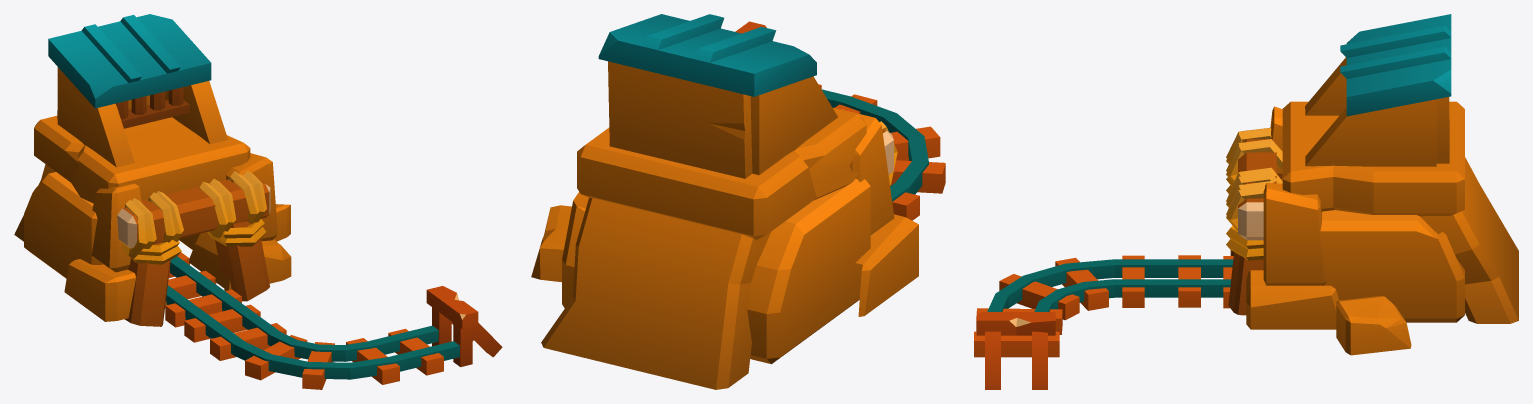
Rendered from Structure_Iron_Mine_lvl01.fbx.
3 renders of one model, left to right at view 1: azimuth 30°, elevation 25°; view 2: azimuth 150°, elevation 25°; view 3: azimuth 270°, elevation 25°, orthographic. The views are drawn at different scales.
Visible parts, largest first — view 1: Structure_Iron_Mine_lvl01; view 2: Structure_Iron_Mine_lvl01; view 3: Structure_Iron_Mine_lvl01.
Part boxes in pixels (x1=…): Structure_Iron_Mine_lvl01: x1=14, y1=14, x2=502, y2=389; Structure_Iron_Mine_lvl01: x1=531, y1=14, x2=945, y2=389; Structure_Iron_Mine_lvl01: x1=974, y1=14, x2=1518, y2=389.
Bounding box in the file's own units: 787 × 623 × 1199.
